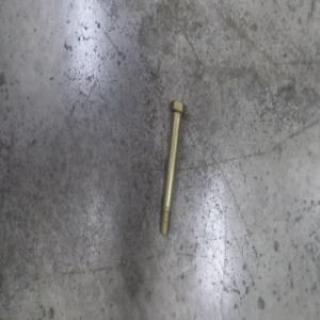Bolttrack_idkeyframe: (157, 98, 186, 236)
